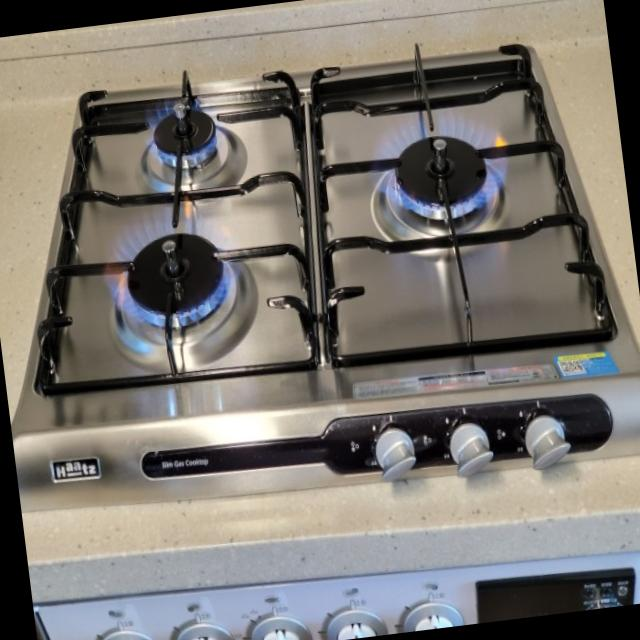knob_ON: (314, 80, 580, 320), (17, 55, 299, 217), (57, 183, 308, 362)
